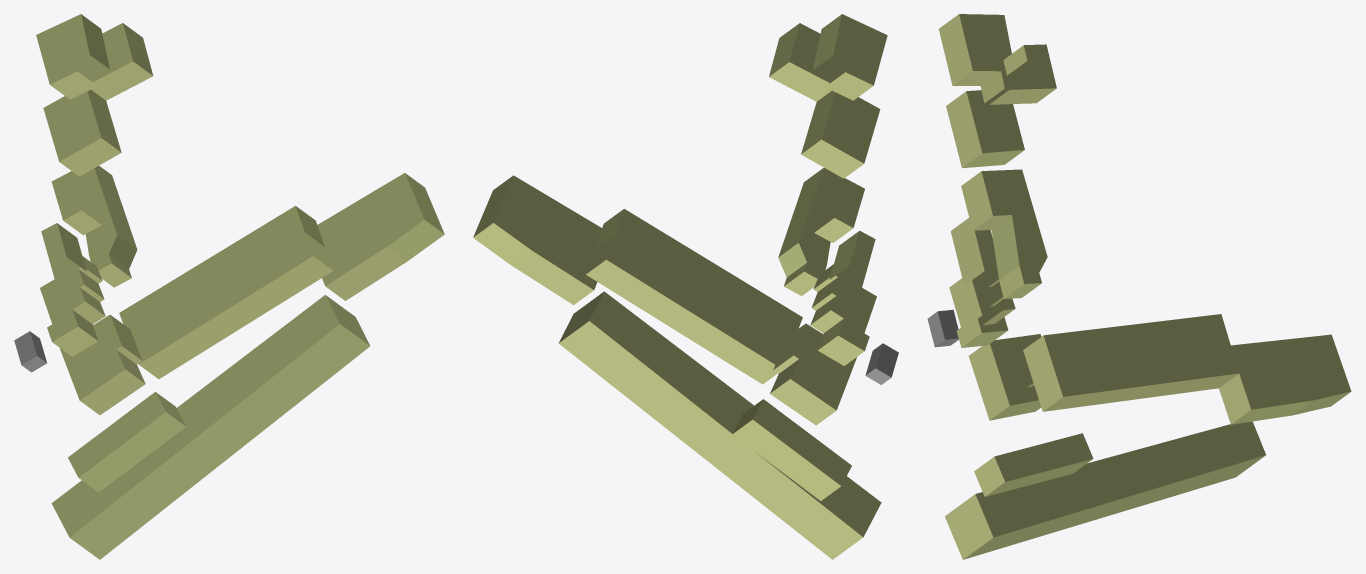
3 views of the same model, side by side, from view 1: azimuth 30°, elevation 25°; view 2: azimuth 150°, elevation 25°; view 3: azimuth 330°, elevation 25° (orthographic).
Parts seen in each view (by area): view 1: 0_1_0_2_0_2_0_0; view 2: 0_1_0_2_0_2_0_0; view 3: 0_1_0_2_0_2_0_0.
Part boxes in pixels (x1,y1,x2,y2): 0_1_0_2_0_2_0_0: [14, 14, 444, 559]; 0_1_0_2_0_2_0_0: [473, 14, 898, 559]; 0_1_0_2_0_2_0_0: [927, 14, 1351, 559].
Size of the model in its own units: 70.18 by 85.18 by 9.9.
